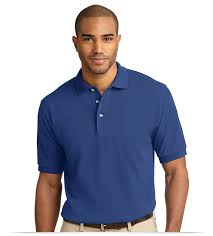C_polo shirt: (29, 64, 189, 219)
